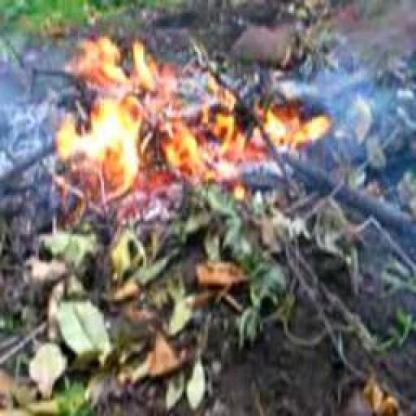fire: (40, 32, 188, 199), (146, 85, 334, 185)
